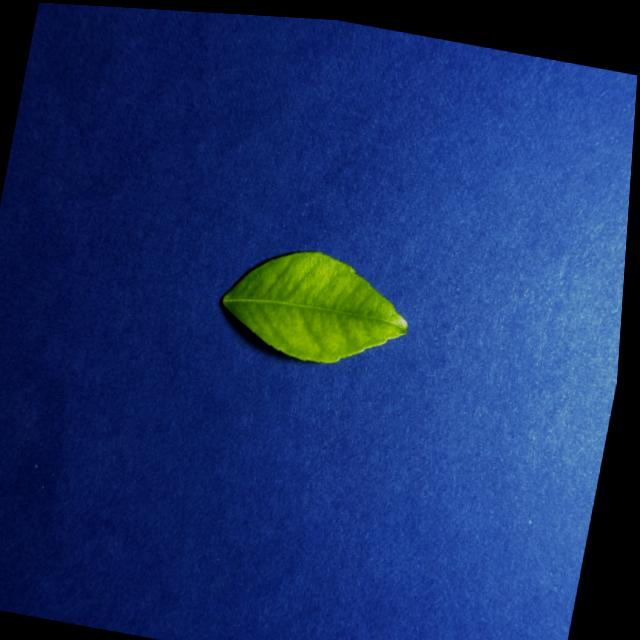greening: (221, 251, 406, 362)
